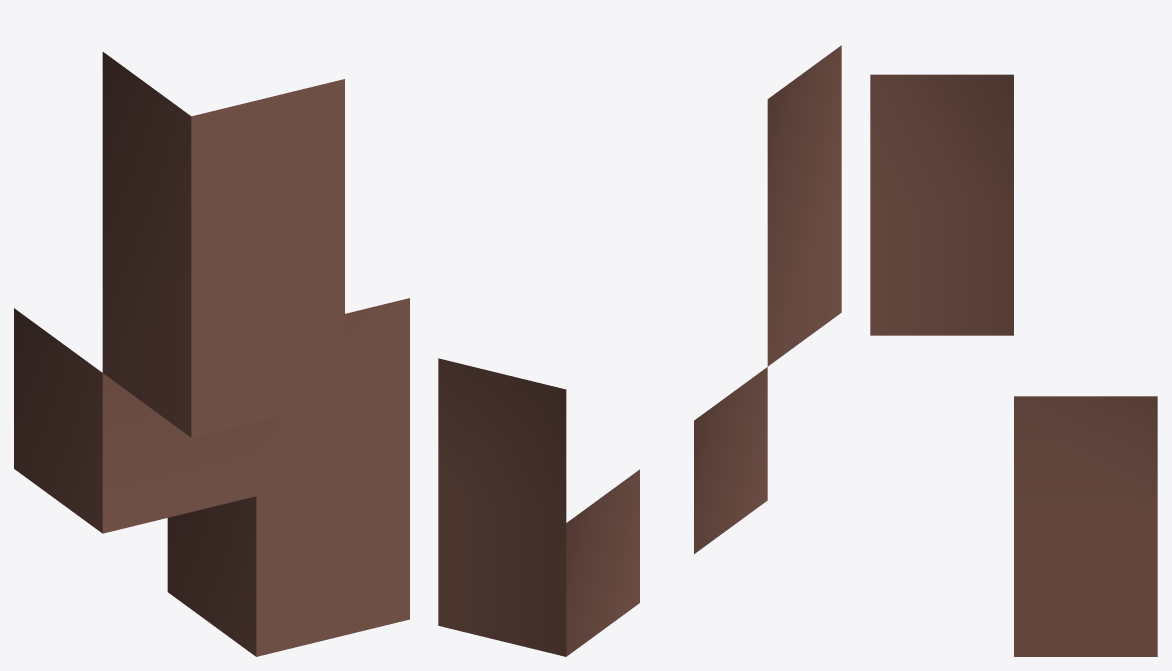
File: scar_cheek_slash.glb
3 views of the same model, side by side, from view 1: azimuth 30°, elevation 25°; view 2: azimuth 150°, elevation 25°; view 3: azimuth 270°, elevation 25° (orthographic). The views are drawn at different scales.
Parts seen in each view (by area): view 1: VoxelVisual; view 2: VoxelVisual; view 3: VoxelVisual.
Boxes of the visible parts, bbox=[...] form: VoxelVisual: bbox=[14, 52, 409, 656]; VoxelVisual: bbox=[438, 45, 841, 656]; VoxelVisual: bbox=[870, 74, 1157, 656].
Size of what is drawn, in the model's own units: 0.125 by 0.25 by 0.125.
